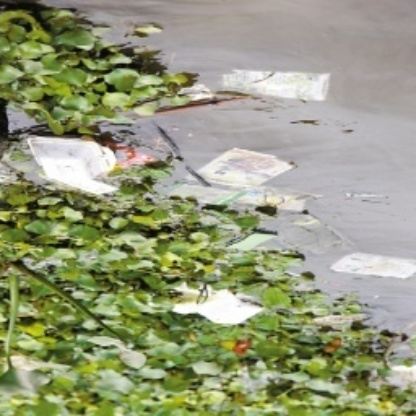plastic-bag: (220, 65, 335, 105), (198, 143, 290, 192)
plastic-garbage: (14, 135, 113, 196)
